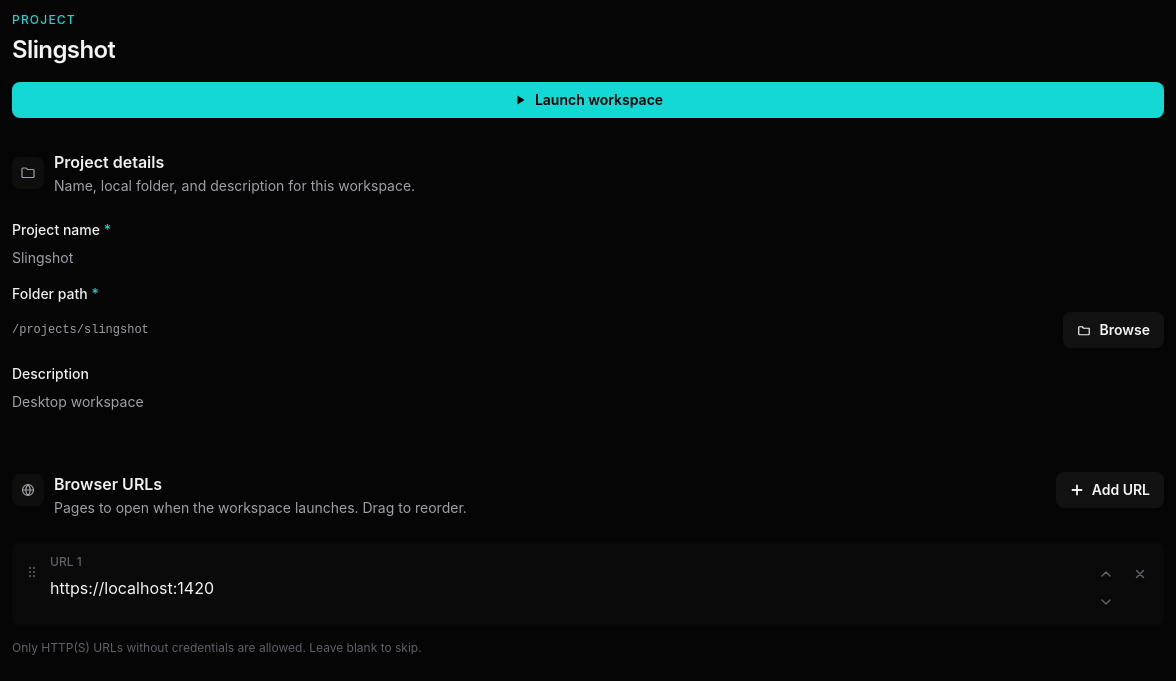
Test: ProjectDetailPage › shows a folder picker error and keeps the previous path
Step 1. Click the button "Browse" → [1114, 330], box 1064,312 -> 1164,348
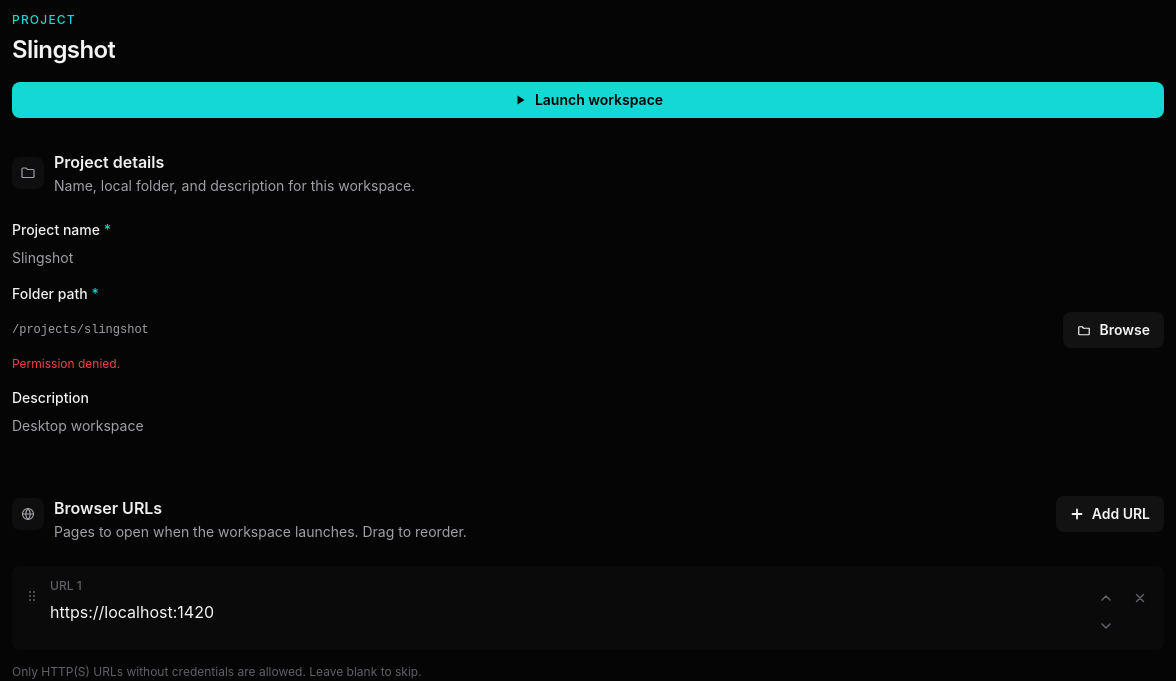
Expected: the field labelled "Folder path *" holds "/projects/slingshot", 12,322 -> 1056,338
Result: the text "Permission denied." is shown at 12,356 -> 120,371
